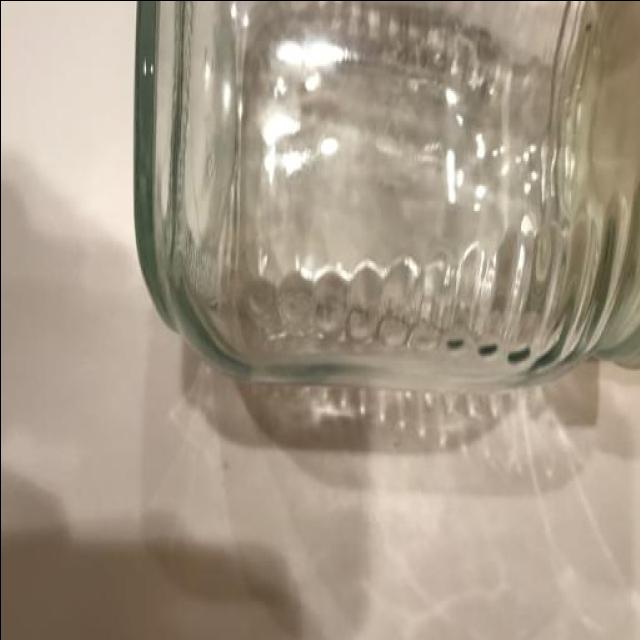glass: (89, 0, 638, 417)
